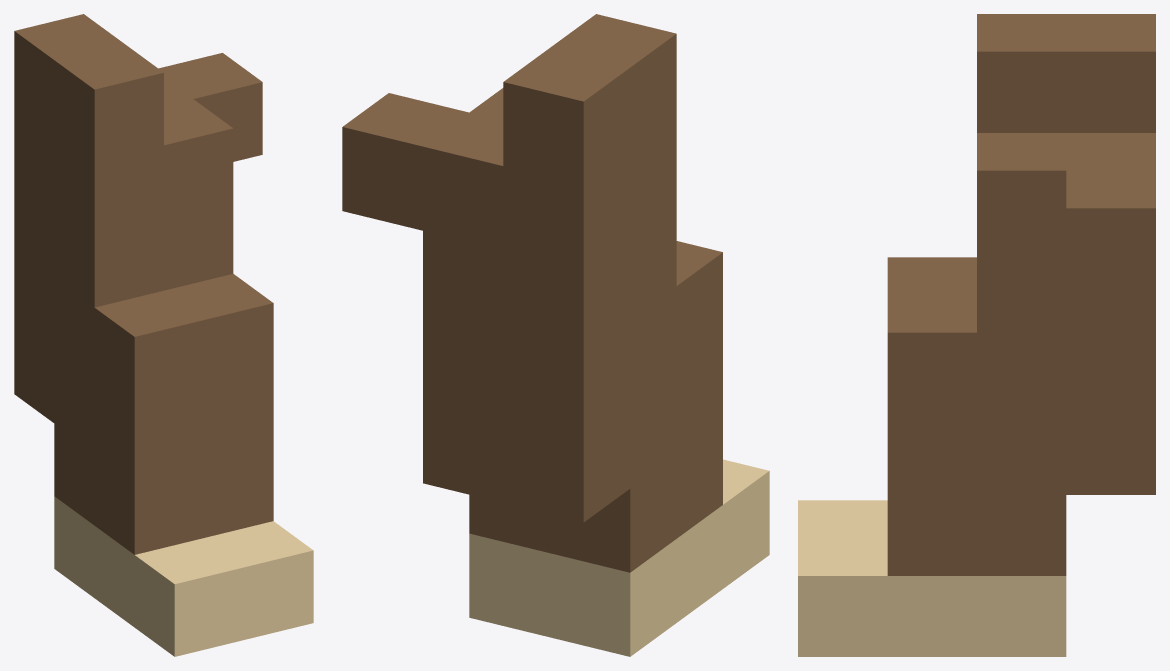
Rendered from monkey__leg_br.glb.
3 renders of one model, left to right at view 1: azimuth 30°, elevation 25°; view 2: azimuth 150°, elevation 25°; view 3: azimuth 270°, elevation 25°, orthographic. The views are drawn at different scales.
Parts seen in each view (by area): view 1: monkey__leg_br; view 2: monkey__leg_br; view 3: monkey__leg_br.
Boxes of the visible parts, x1,y1,x2,y2 form: monkey__leg_br: [14, 14, 313, 656]; monkey__leg_br: [342, 14, 769, 656]; monkey__leg_br: [798, 14, 1155, 656].
Size of the model in its own units: 0.3 by 0.7 by 0.4.
1 material, 1 textured.
